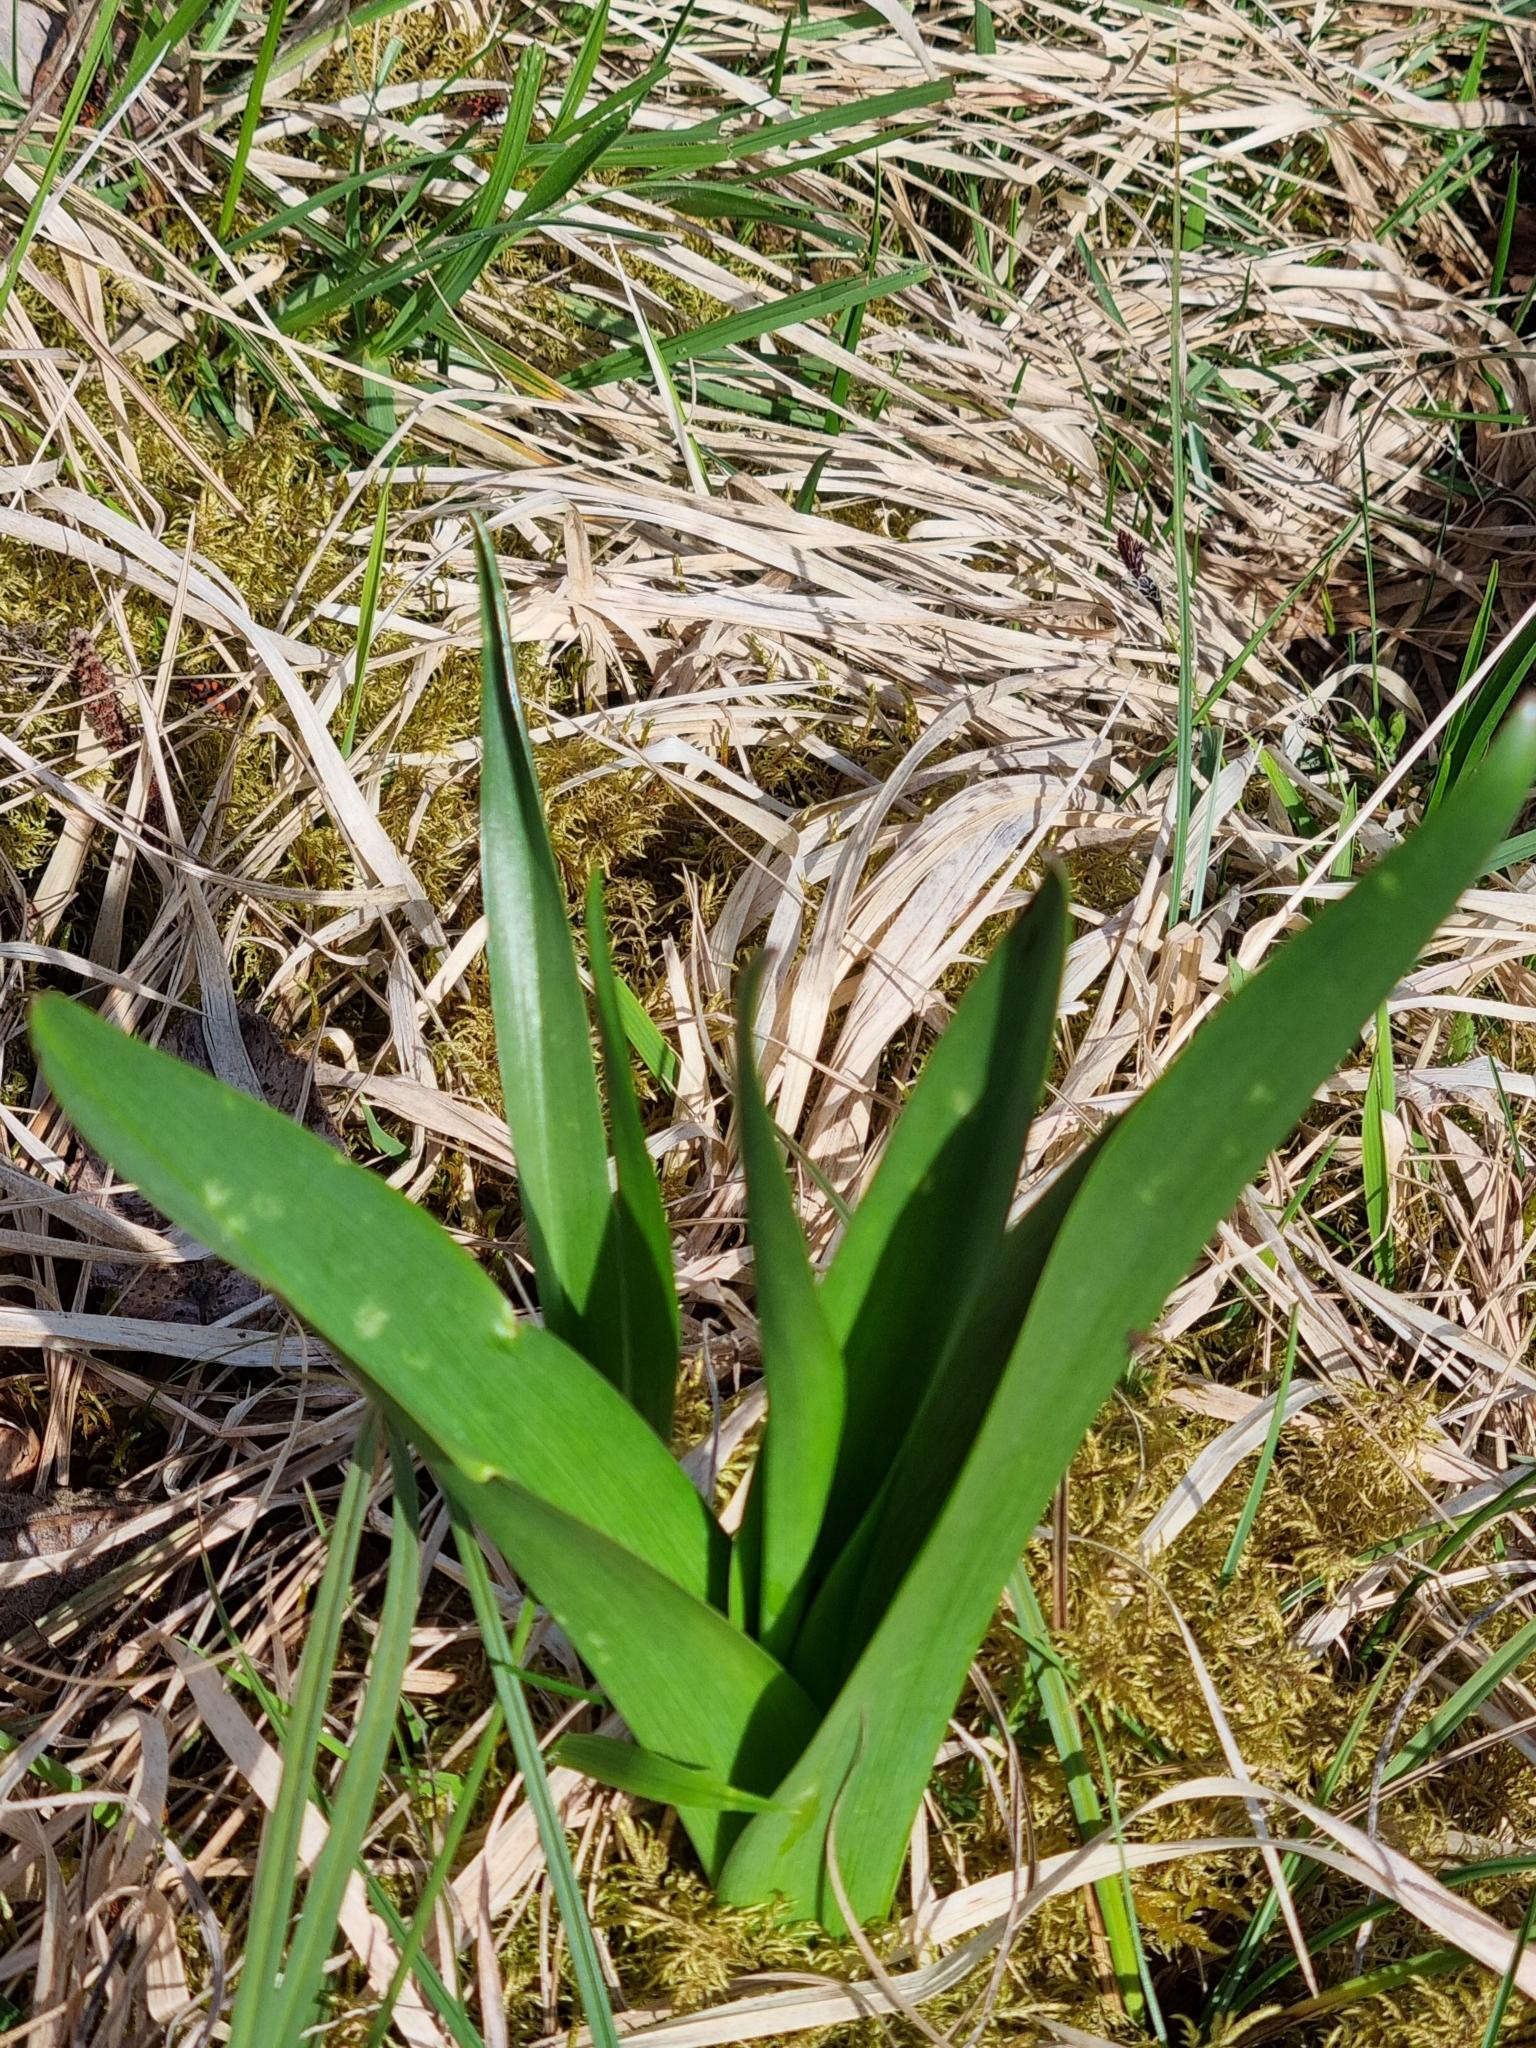Colchicum autumnale L: (52, 506, 1536, 1950)
